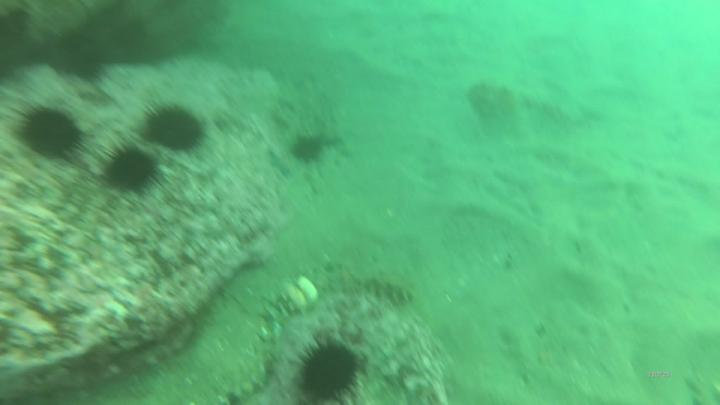echinus: (298, 340, 363, 405), (20, 103, 84, 165), (101, 140, 162, 199), (141, 106, 206, 153), (293, 132, 324, 166)
holothurian: (359, 271, 421, 309)
